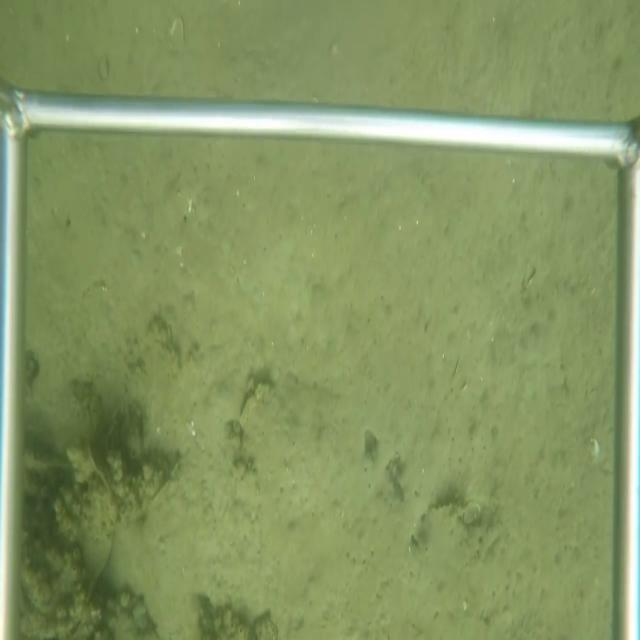Oyster-Indeterminate: (237, 370, 298, 449), (411, 494, 475, 553)
